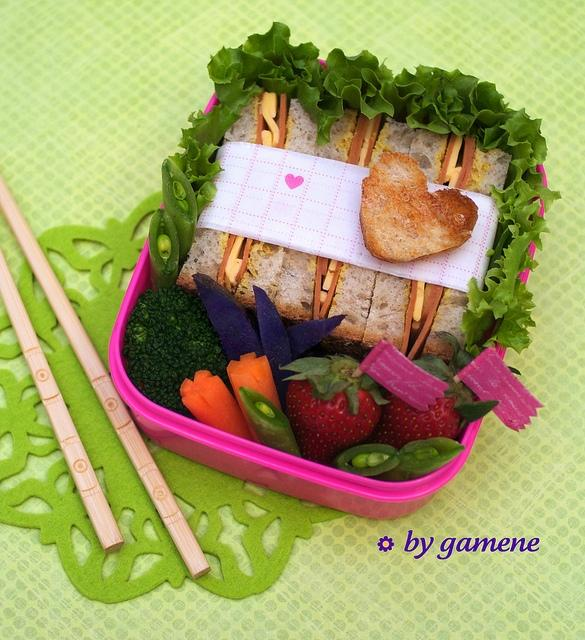broccoli: (123, 284, 236, 420)
carrot: (180, 370, 255, 442), (226, 352, 282, 444)
lettuce: (296, 59, 344, 146), (178, 106, 244, 150)
strawberry: (357, 331, 500, 451), (279, 353, 392, 468)
